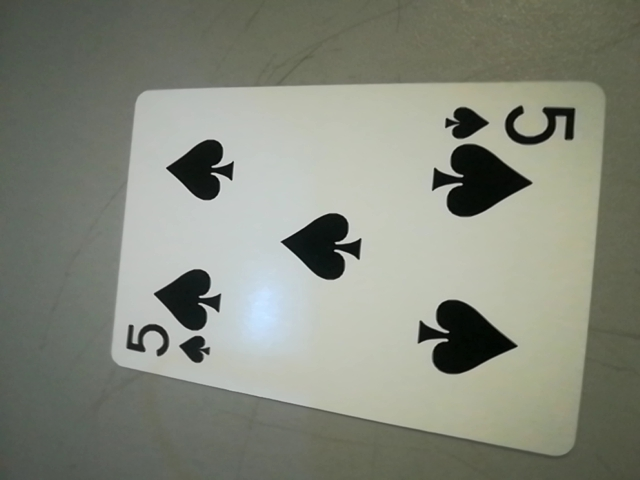ht 5: (437, 98, 587, 153)
